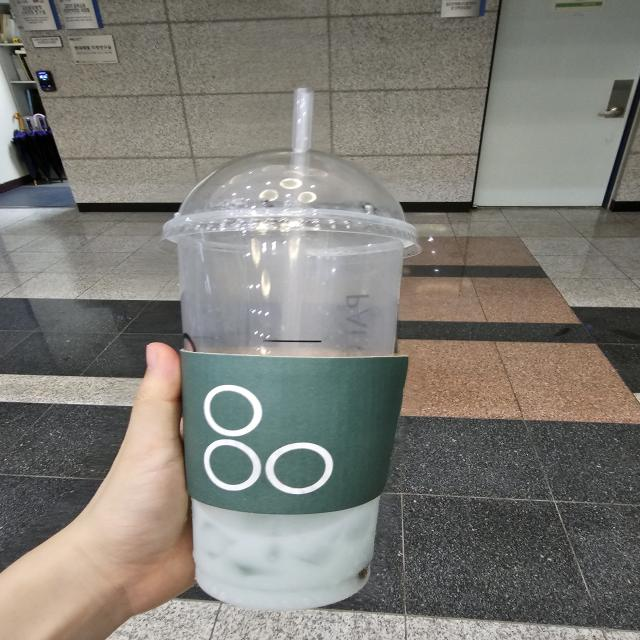cup: (149, 138, 425, 619)
